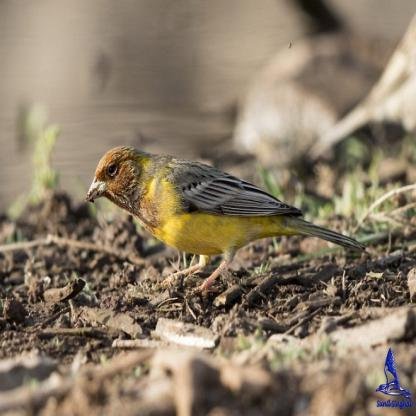Burung: (85, 145, 363, 294)
